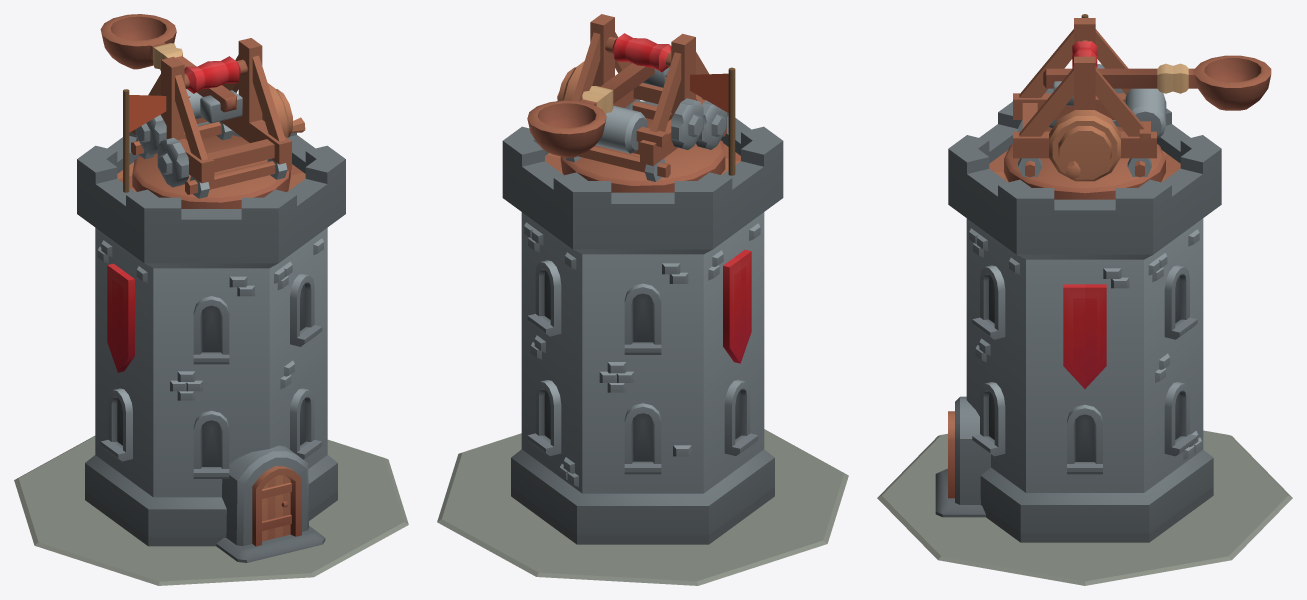
File: tower-rust.glb
3 renders of one model, left to right at view 1: azimuth 30°, elevation 25°; view 2: azimuth 150°, elevation 25°; view 3: azimuth 270°, elevation 25°, orthographic. The views are drawn at different scales.
Visible parts, largest first — view 1: building_tower_catapult_red, worn-foundation, catapult_turret_red, catapult_arm_red, team-standard, standard-pole; view 2: building_tower_catapult_red, worn-foundation, catapult_turret_red, catapult_arm_red, team-standard, standard-pole; view 3: building_tower_catapult_red, worn-foundation, catapult_turret_red, catapult_arm_red.
Part boxes in pixels (x1,y1,x2,y2): building_tower_catapult_red: (77,120,345,562); worn-foundation: (14,436,408,585); catapult_turret_red: (131,38,305,208); catapult_arm_red: (100,14,242,123); team-standard: (129,95,190,132); standard-pole: (123,89,129,192); building_tower_catapult_red: (502,101,783,544); worn-foundation: (437,429,848,585); catapult_turret_red: (557,14,726,192); catapult_arm_red: (527,63,669,158); team-standard: (665,73,728,112); standard-pole: (728,67,735,175); building_tower_catapult_red: (935,101,1221,542); worn-foundation: (877,430,1292,585); catapult_turret_red: (1004,18,1166,199); catapult_arm_red: (1043,55,1271,110).
Bounding box in the file's own units: 4.36 × 5.3 × 4.36.
Materials: 4 (1 with a texture image).
